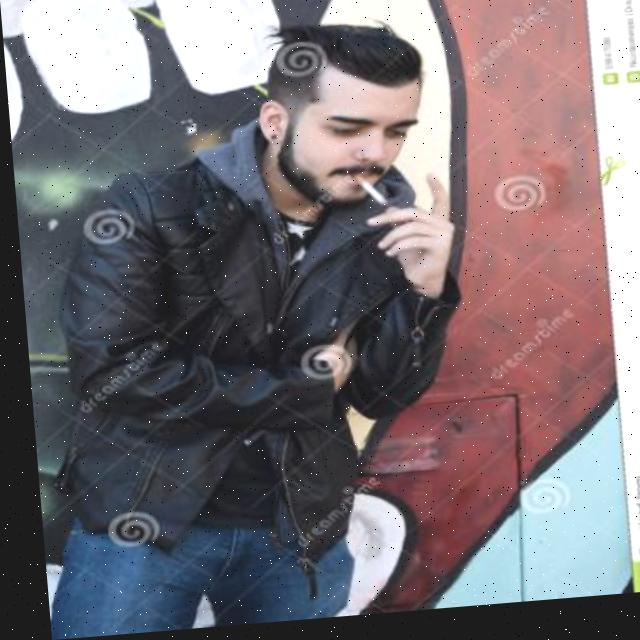cigarette: (349, 176, 387, 214)
